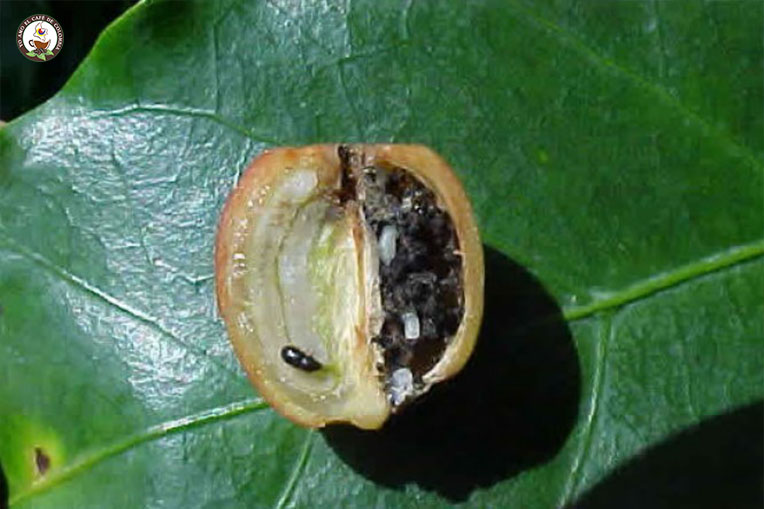broca de cafe: (237, 142, 470, 426)
